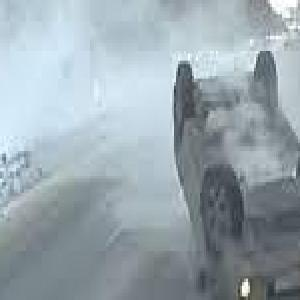critical: (170, 39, 300, 300)
